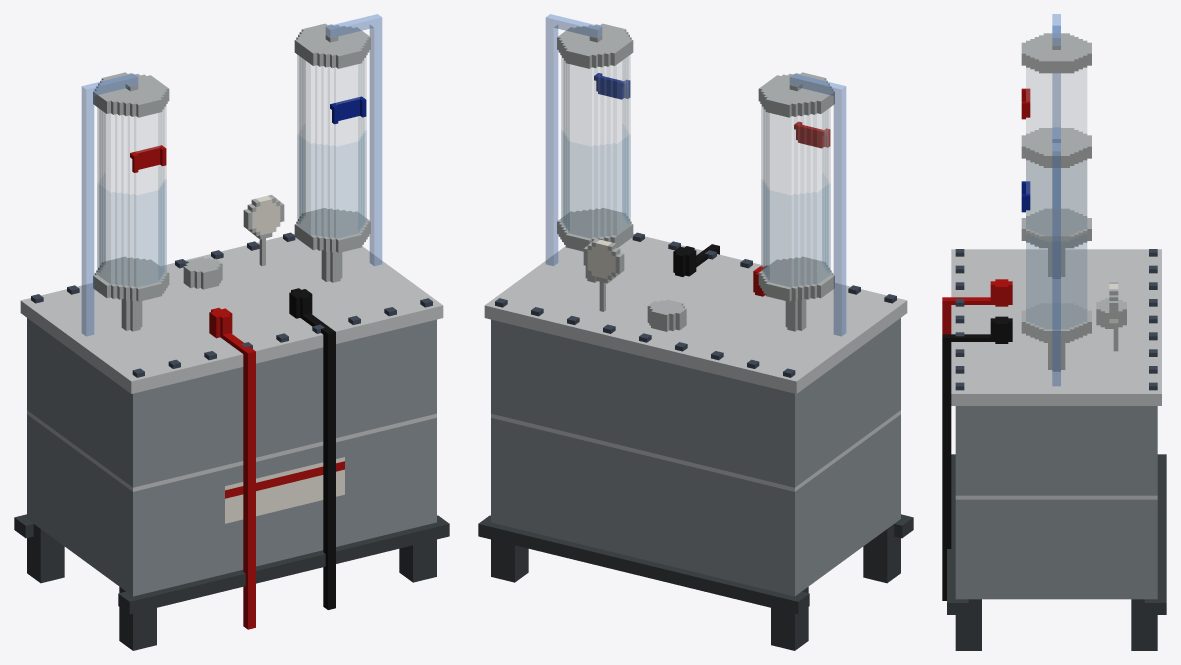
The model's file is electrolyzer_makeshift.glb.
3 views of the same model, side by side, from view 1: azimuth 30°, elevation 25°; view 2: azimuth 150°, elevation 25°; view 3: azimuth 270°, elevation 25° (orthographic). The views are drawn at different scales.
Visible parts, largest first — view 1: electrolyzer_makeshift:compound; view 2: electrolyzer_makeshift:compound; view 3: electrolyzer_makeshift:compound.
Boxes of the visible parts, x1,y1,x2,y2 form: electrolyzer_makeshift:compound: (14, 14, 449, 650); electrolyzer_makeshift:compound: (478, 14, 913, 650); electrolyzer_makeshift:compound: (942, 14, 1166, 650).
Bounding box in the file's own units: 0.64 × 1 × 0.408.
